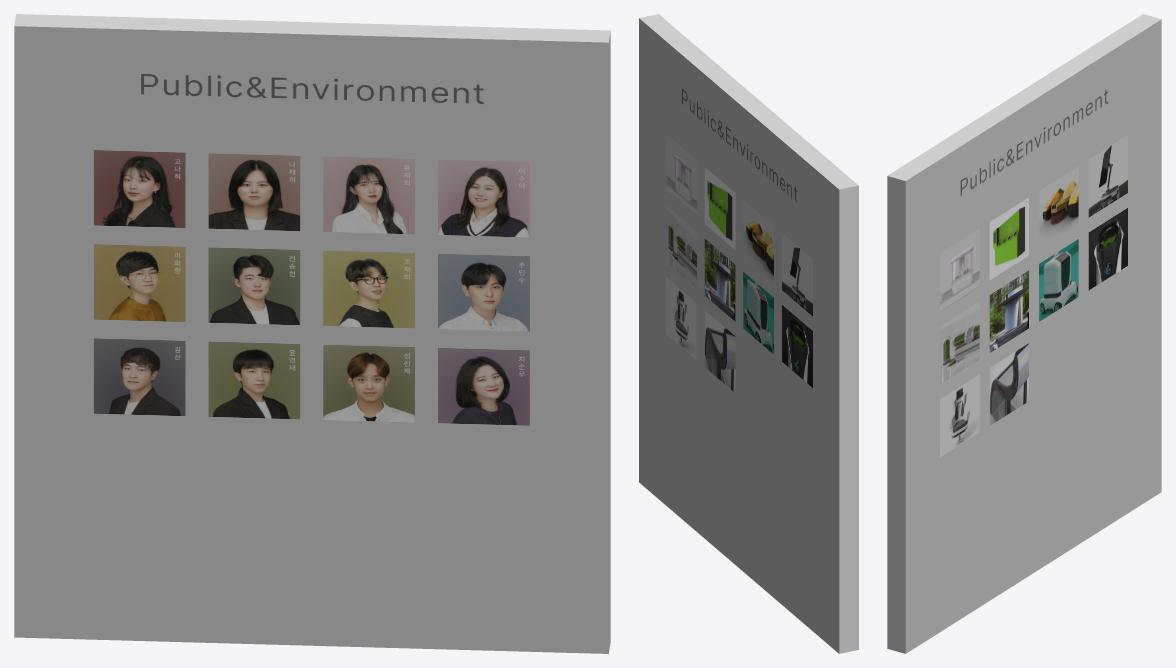
The picture shows the model from 3 angles, left to right: view 1: azimuth 30°, elevation 25°; view 2: azimuth 150°, elevation 25°; view 3: azimuth 270°, elevation 25°; orthographic projection. The views are drawn at different scales.
Parts seen in each view (by area): view 1: Cylinder.026; view 2: Cylinder.026; view 3: Cylinder.026.
Part boxes in pixels (<box>): Cylinder.026: <box>14,14,610,653</box>; Cylinder.026: <box>639,14,858,653</box>; Cylinder.026: <box>887,14,1161,653</box>.
Bounding box in the file's own units: 5.31 × 7 × 3.69.
3 materials, 2 textured.
